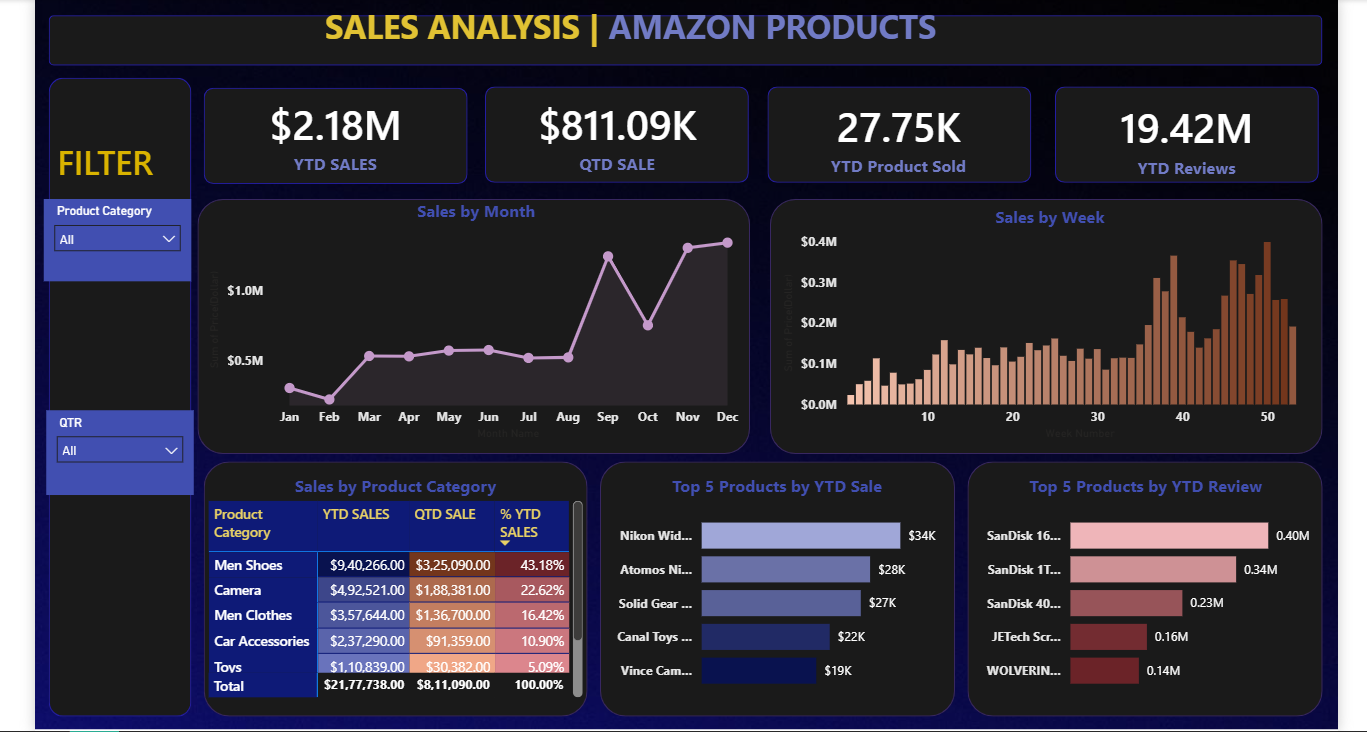

The dashboard page shown, as its layout file describes it:
{"tool":"powerbi","page":{"name":"Page 1","canvas":[1280,720],"ordinal":0},"visuals":[{"type":"shape","box":[13.7,16.5,1250.1,49.4],"z":0},{"type":"textbox","box":[279.9,0,610.6,54.9],"z":1000},{"type":"shape","box":[13.7,76.8,140,627.1],"z":2000},{"type":"group","id":"g1","title":"Group 1","box":[165.6,85.9,1094.5,98.2],"z":3000},{"type":"shape","box":[165.6,87.1,258.9,94.5],"z":3000,"group":"g1"},{"type":"card","fields":{"Values":["Amazon_Data.YTD SALES"]},"box":[165.6,85.9,258.9,94.5],"z":4000,"group":"g1"},{"type":"shape","box":[159.5,196.3,542.3,250.3],"z":4000},{"type":"shape","box":[441.7,85.9,258.9,94.5],"z":5000,"group":"g1"},{"type":"shape","box":[165.6,454,376.7,250.3],"z":5000},{"type":"card","fields":{"Values":["Amazon_Data.QTD SALE"]},"box":[441.7,85.9,260.1,94.5],"z":6000,"group":"g1"},{"type":"shape","box":[721.5,196.3,542.3,250.3],"z":6000},{"type":"shape","box":[719,85.9,258.9,94.5],"z":7000,"group":"g1"},{"type":"areaChart","title":"Sales by Month","fields":{"Category":["calender table.Month Name"],"Y":["Sum(Amazon_Data.Price(Dollar))"]},"box":[165.6,196.3,535,241.7],"z":7000},{"type":"card","fields":{"Values":["Amazon_Data.YTD Product Sold"]},"box":[717.8,88.4,260.1,94.5],"z":8000,"group":"g1"},{"type":"columnChart","title":"Sales by Week","fields":{"Category":["calender table.Week Number"],"Y":["Sum(Amazon_Data.Price(Dollar))"]},"box":[728.8,202.5,535,235.6],"z":8000},{"type":"shape","box":[1001.2,85.9,258.9,94.5],"z":9000,"group":"g1"},{"type":"pivotTable","title":"Sales by Product Category ","fields":{"Rows":["Amazon_Data.Product Category"],"Values":["Amazon_Data.YTD SALES1","Amazon_Data.QTD SALE","Amazon_Data.YTD SALES"]},"box":[165.6,466.3,376.7,224.5],"z":9000},{"type":"card","fields":{"Values":["Amazon_Data.YTD Reviews"]},"box":[1001.2,89.6,258.9,94.5],"z":10000,"group":"g1"},{"type":"shape","box":[554.6,454,348.5,250.3],"z":10000},{"type":"shape","box":[915.3,454,348.5,250.3],"z":11000},{"type":"clusteredBarChart","title":"Top 5 Products by YTD  Sale","fields":{"Y":["Amazon_Data.YTD SALES"],"Category":["Amazon_Data.Product Description"]},"box":[554.5,466.1,347.8,225.2],"z":12000},{"type":"clusteredBarChart","title":"Top 5 Products by YTD  Review","fields":{"Category":["Amazon_Data.Product Description"],"Y":["Amazon_Data.YTD Reviews"]},"box":[916.5,466.1,347.8,225.2],"z":13000},{"type":"slicer","fields":{"Values":["calender table.QTE"]},"box":[11,403.7,144.8,83.4],"z":14000},{"type":"slicer","fields":{"Values":["Amazon_Data.Product Category"]},"box":[8.6,196.3,144.8,81],"z":15000},{"type":"textbox","box":[0,133.7,137.4,68.7],"z":16000}]}

Visuals, with their boxes on the page's 1280x720 design canvas (x1, y1, x2, y2). These are canvas units, not pixel positions in the 1367x732 screenshot, which may show the page scaled, cropped or inside an application window:
shape: region(14, 16, 1264, 66)
textbox: region(280, 0, 890, 55)
shape: region(14, 77, 154, 704)
"Group 1" group: region(166, 86, 1260, 184)
shape: region(166, 87, 424, 182)
card - Amazon_Data.YTD SALES: region(166, 86, 424, 180)
shape: region(160, 196, 702, 447)
shape: region(442, 86, 701, 180)
shape: region(166, 454, 542, 704)
card - Amazon_Data.QTD SALE: region(442, 86, 702, 180)
shape: region(722, 196, 1264, 447)
shape: region(719, 86, 978, 180)
"Sales by Month" areaChart: region(166, 196, 701, 438)
card - Amazon_Data.YTD Product Sold: region(718, 88, 978, 183)
"Sales by Week" columnChart: region(729, 202, 1264, 438)
shape: region(1001, 86, 1260, 180)
"Sales by Product Category " pivotTable: region(166, 466, 542, 691)
card - Amazon_Data.YTD Reviews: region(1001, 90, 1260, 184)
shape: region(555, 454, 903, 704)
shape: region(915, 454, 1264, 704)
"Top 5 Products by YTD  Sale" clusteredBarChart: region(554, 466, 902, 691)
"Top 5 Products by YTD  Review" clusteredBarChart: region(916, 466, 1264, 691)
slicer - calender table.QTE: region(11, 404, 156, 487)
slicer - Amazon_Data.Product Category: region(9, 196, 153, 277)
textbox: region(0, 134, 137, 202)
